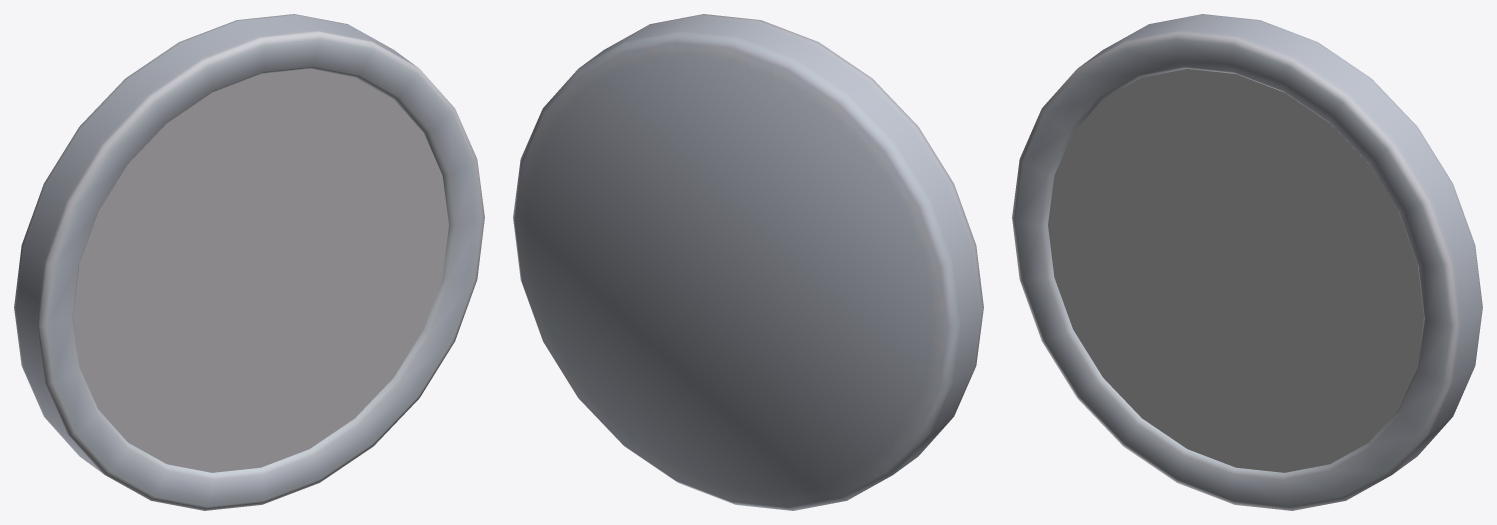
The model's file is wall-clock.glb.
The picture shows the model from 3 angles, left to right: view 1: azimuth 30°, elevation 25°; view 2: azimuth 150°, elevation 25°; view 3: azimuth 330°, elevation 25°; orthographic projection.
Parts seen in each view (by area): view 1: Glass_low__mGlass-mesh, Body_low__mReBody-mesh; view 2: Body_low__mReBody-mesh; view 3: Glass_low__mGlass-mesh, Body_low__mReBody-mesh.
Part boxes in pixels (box(x1,y1,x2,y2)): Glass_low__mGlass-mesh: box(73, 69, 448, 472); Body_low__mReBody-mesh: box(14, 14, 484, 510); Body_low__mReBody-mesh: box(513, 14, 983, 510); Glass_low__mGlass-mesh: box(1048, 69, 1423, 472); Body_low__mReBody-mesh: box(1012, 14, 1482, 510).
Size of the model in its own units: 6.92 by 6.92 by 0.8488.
2 materials, 2 textured.
